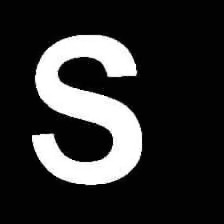LTR_S: (19, 29, 148, 188)
